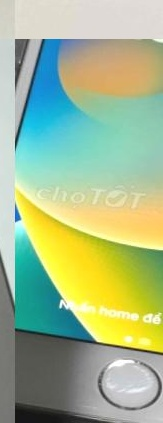scratch: (87, 351, 163, 401)
